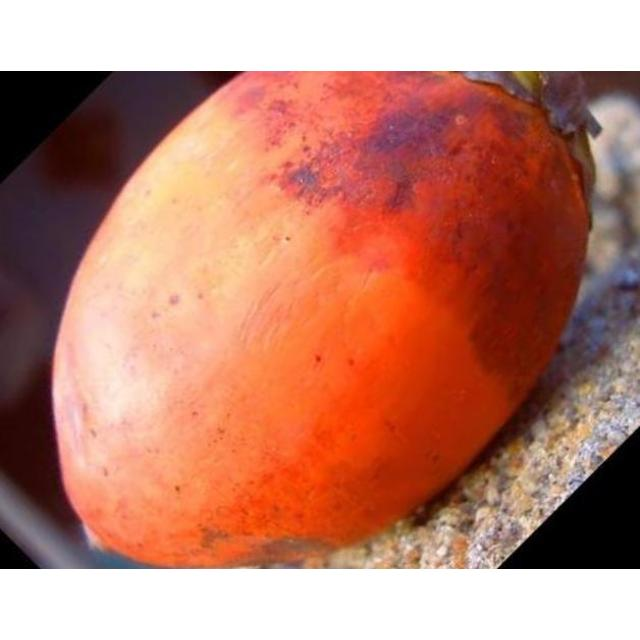good: (47, 71, 594, 568)
